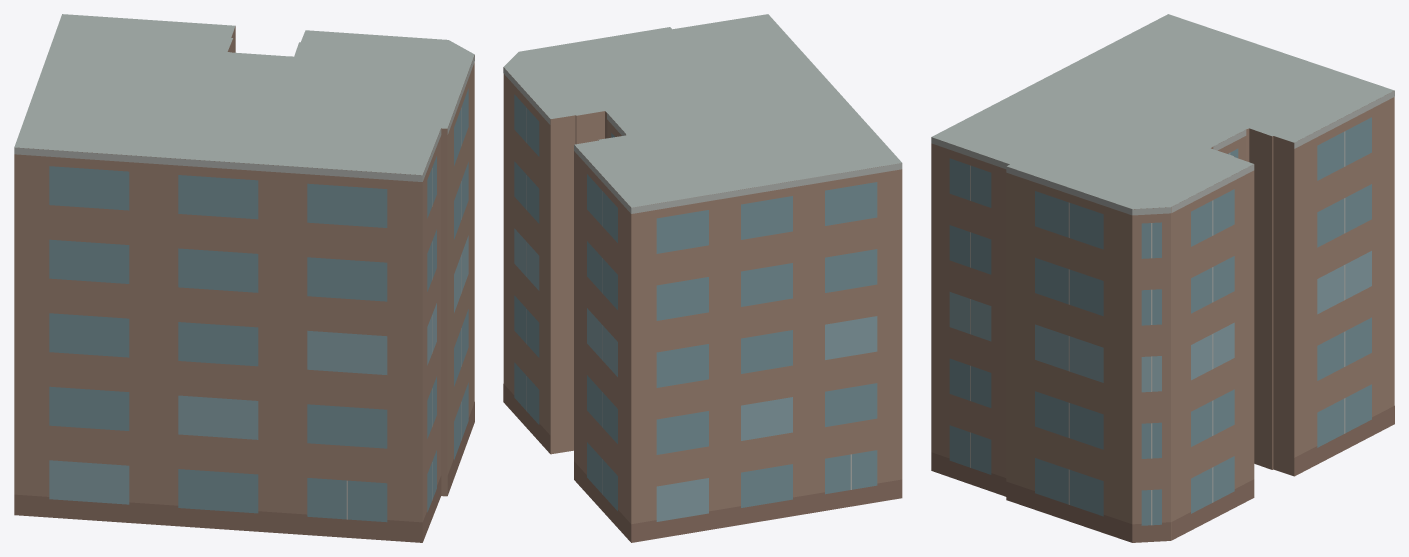
Rendered from survey-upis-32693114.glb.
3 views of the same model, side by side, from view 1: azimuth 30°, elevation 25°; view 2: azimuth 150°, elevation 25°; view 3: azimuth 270°, elevation 25° (orthographic). The views are drawn at different scales.
Visible parts, largest first — view 1: survey-upis-32693114.tmp; view 2: survey-upis-32693114.tmp; view 3: survey-upis-32693114.tmp.
Boxes of the visible parts, bbox=[...] form: survey-upis-32693114.tmp: bbox=[14, 14, 474, 542]; survey-upis-32693114.tmp: bbox=[503, 14, 902, 542]; survey-upis-32693114.tmp: bbox=[931, 14, 1394, 542].
Bounding box in the file's own units: 16.32 × 13 × 16.37.
